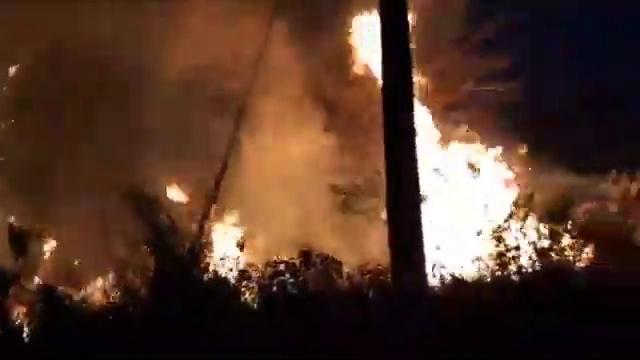fire: (425, 143, 515, 264), (350, 10, 385, 79), (212, 215, 245, 277)
